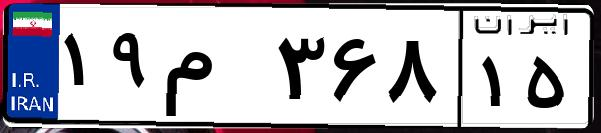1: (57, 26, 110, 100), (475, 38, 525, 113)
3: (270, 28, 330, 110)
5: (525, 38, 570, 115)
6: (330, 28, 385, 110)
8: (385, 28, 445, 110)
9: (110, 28, 158, 98)
م: (158, 20, 270, 120)
